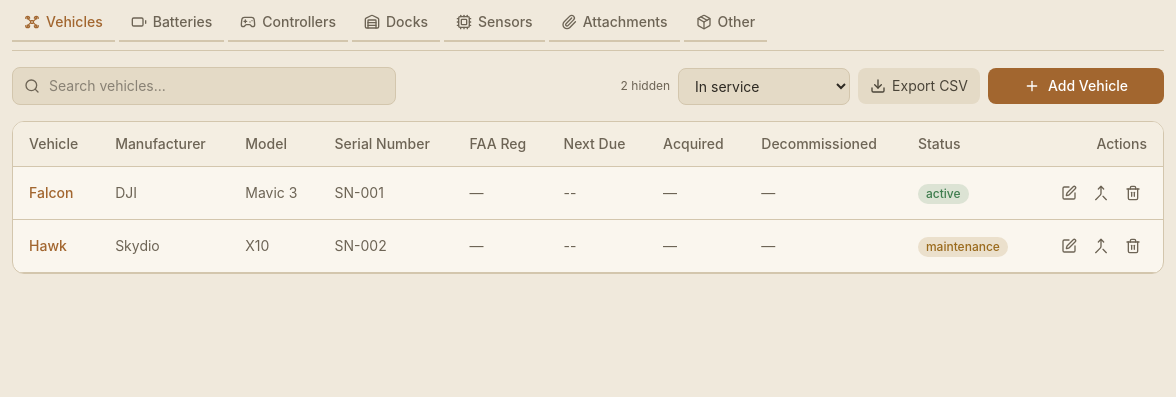
FleetPage › applies the filter on the other tabs too, and keeps the choice across a switch
Expected: the link "Falcon" is shown, [29,184,73,201]
Step 1. Click the button "Batteries" → [171, 27], box [119,12,224,42]
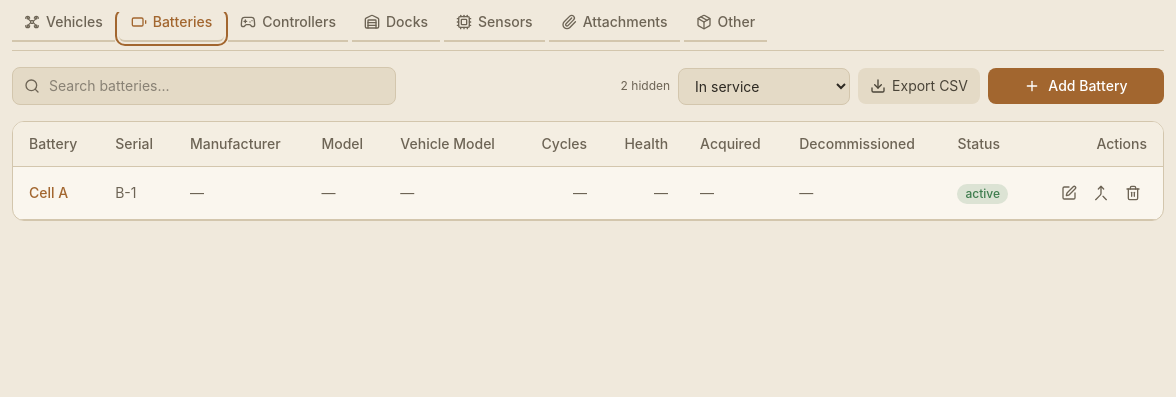
Expected: the link "Cell Dead" is not shown
Now the link "Cell A" is shown, box [29,184,68,201]
Note: The choice carries across tabs rather than silently resetting.
Step 2. Select "All statuses" in the dropdown named "Status" → [764, 86], box [678,68,850,104]
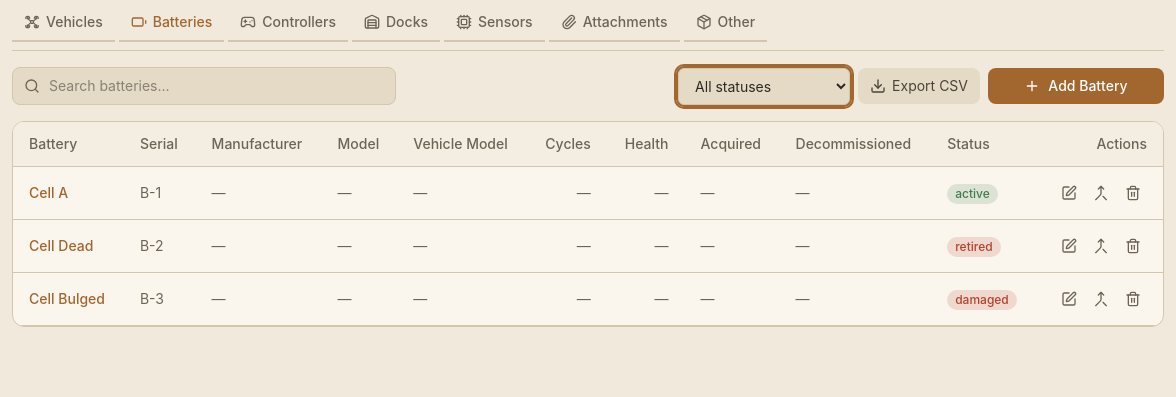
Now the link "Cell Dead" is shown, box [29,237,93,254]
Step 3. Click the button "Vehicles" → [63, 27], box [12,12,115,42]
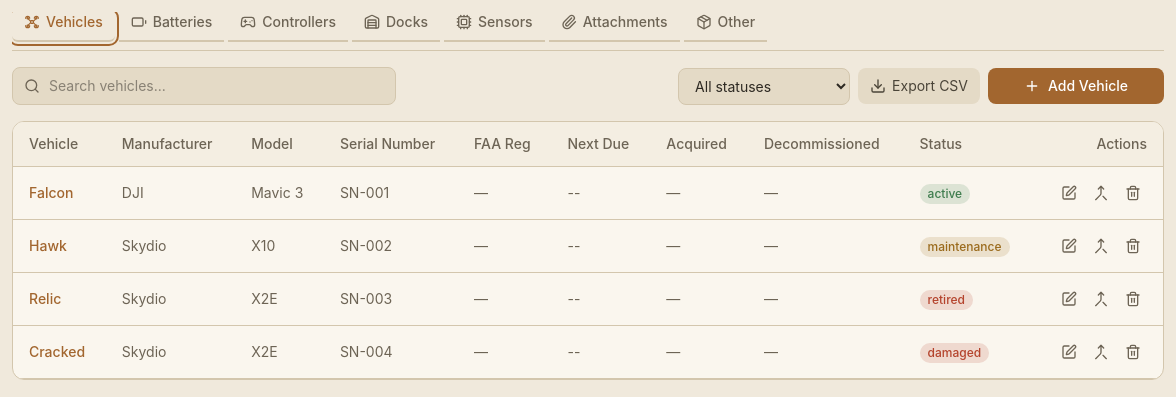
Now the link "Relic" is shown, box [29,290,61,307]
